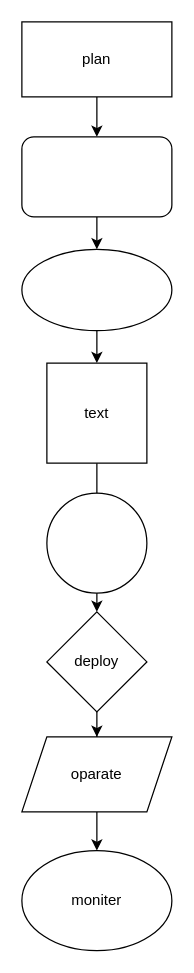
The diagram is 194 pixels wide and 973 high, and some of its shapes have lost their labels. The shapes that lost their labels are listed below. From the top down, each one's centre as x and y in pixels, then its label:
point 96,176: Develop
point 96,289: bulid
point 96,542: release
